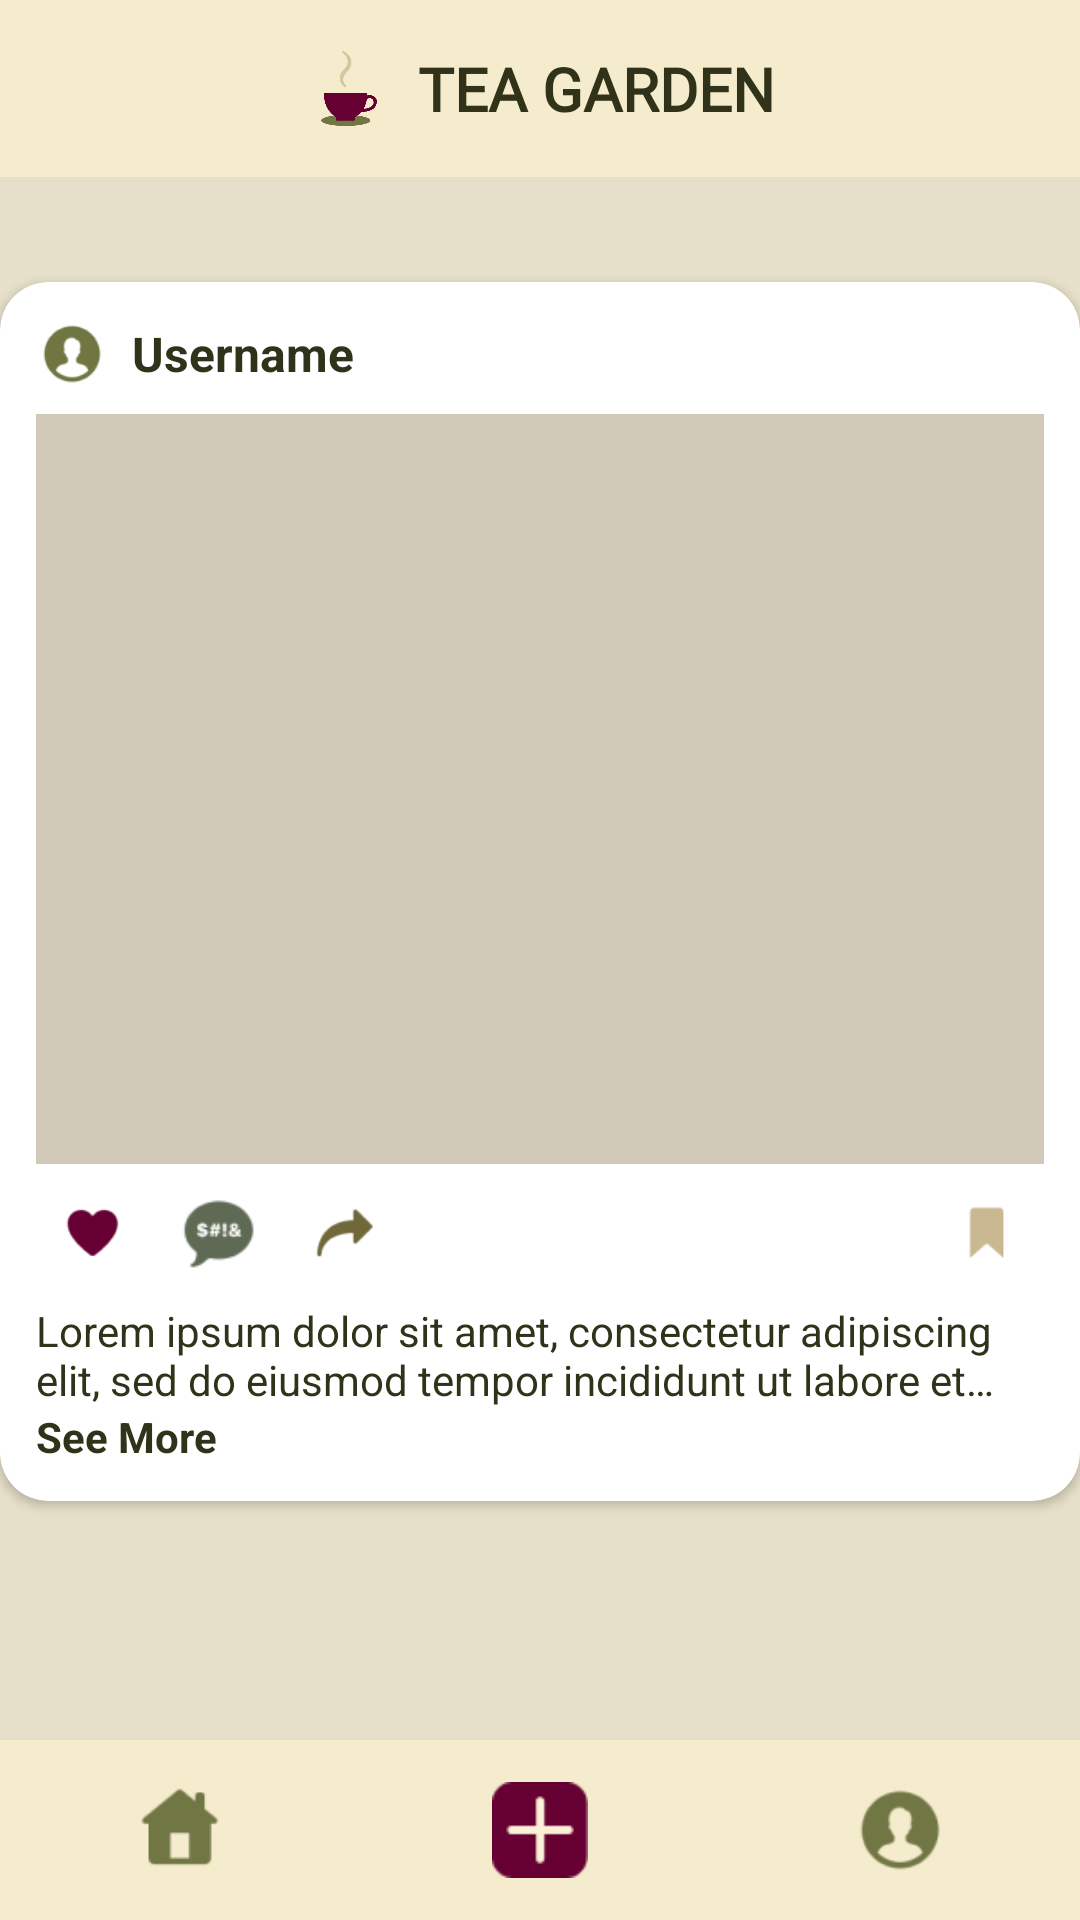

Locate icon controls on the screen. Image size 1080px x 1920px, boxes as (x1, y1, x2, y2).
add: (492, 1782, 588, 1878)
bookmark: (969, 1207, 1004, 1258)
comment: (184, 1200, 254, 1268)
heart: (66, 1209, 119, 1256)
home: (141, 1789, 218, 1865)
share: (317, 1209, 373, 1257)
tea cup: (321, 51, 377, 126)
